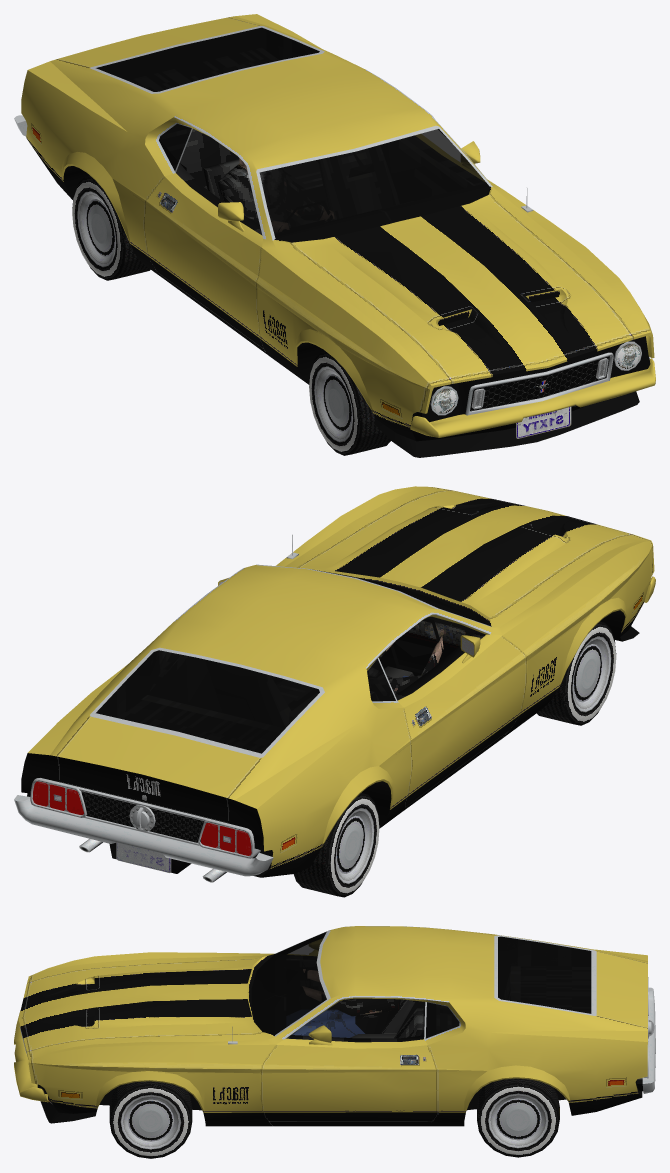
File: MACH1_SIXTY.glb
3 renders of one model, top to bottom at view 1: azimuth 30°, elevation 25°; view 2: azimuth 150°, elevation 25°; view 3: azimuth 270°, elevation 25°, orthographic. The views are drawn at different scales.
Visible parts, largest first — view 1: tree_node_6aa24, WHEEL_FRONT_LEFT_0x6abc4, WHEEL_BACK_LEFT_0x6ab6c; view 2: tree_node_6aa24, WHEEL_BACK_LEFT_0x6ab6c, WHEEL_FRONT_LEFT_0x6abc4, BRAKE_LIGHTS_OFF_0x6ac3c; view 3: tree_node_6aa24, WHEEL_BACK_RIGHT_0x6ab14, WHEEL_FRONT_RIGHT_0x6aabc.
Boxes of the visible parts, x1,y1,x2,y2 form: tree_node_6aa24: (14, 14, 655, 457); WHEEL_FRONT_LEFT_0x6abc4: (309, 351, 390, 455); WHEEL_BACK_LEFT_0x6ab6c: (72, 176, 150, 280); tree_node_6aa24: (14, 486, 655, 882); WHEEL_BACK_LEFT_0x6ab6c: (293, 793, 379, 897); WHEEL_FRONT_LEFT_0x6abc4: (536, 621, 616, 725); BRAKE_LIGHTS_OFF_0x6ac3c: (32, 781, 251, 855); tree_node_6aa24: (14, 926, 655, 1126); WHEEL_BACK_RIGHT_0x6ab14: (477, 1078, 559, 1157); WHEEL_FRONT_RIGHT_0x6aabc: (109, 1081, 192, 1158).
Size of the model in its own units: 1.9 by 1.28 by 4.84.
Materials: 3 (1 with a texture image).
